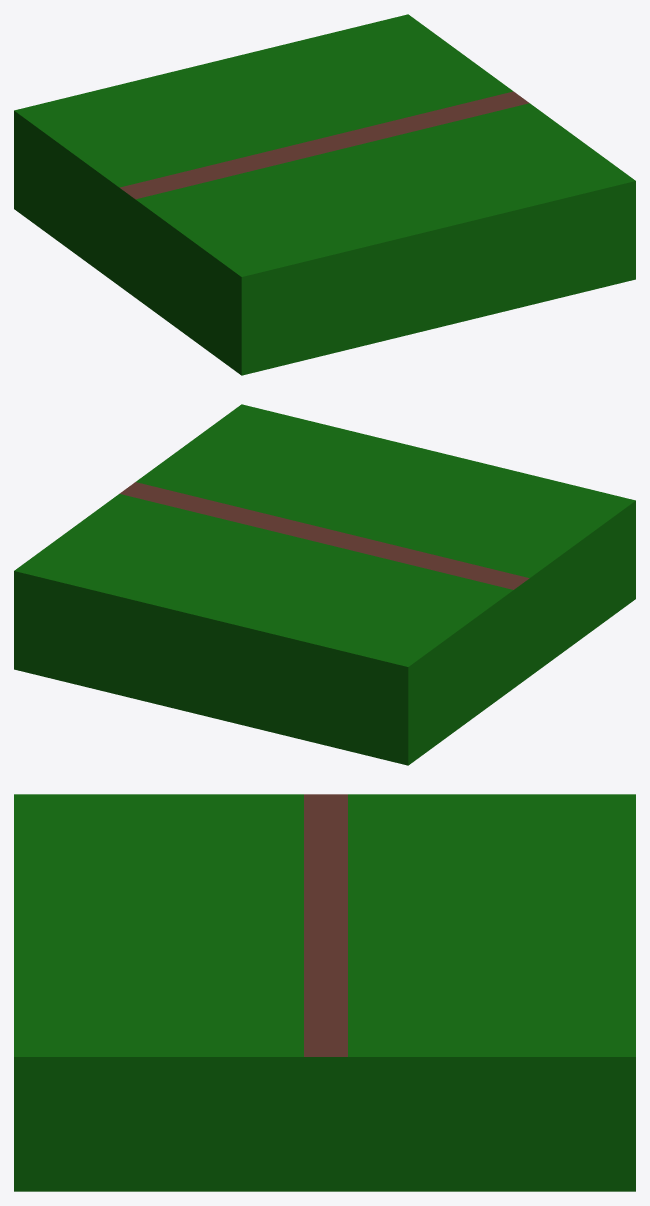
The model's file is delh_terr_03.fbx.
3 views of the same model, one above another, from view 1: azimuth 30°, elevation 25°; view 2: azimuth 150°, elevation 25°; view 3: azimuth 270°, elevation 25° (orthographic). The views are drawn at different scales.
Parts seen in each view (by area): view 1: delh_terr_03; view 2: delh_terr_03; view 3: delh_terr_03.
Part boxes in pixels (<box>): delh_terr_03: <box>14,14,635,375</box>; delh_terr_03: <box>14,404,635,765</box>; delh_terr_03: <box>14,794,635,1191</box>.
Bounding box in the file's own units: 3000 × 716 × 3000.
